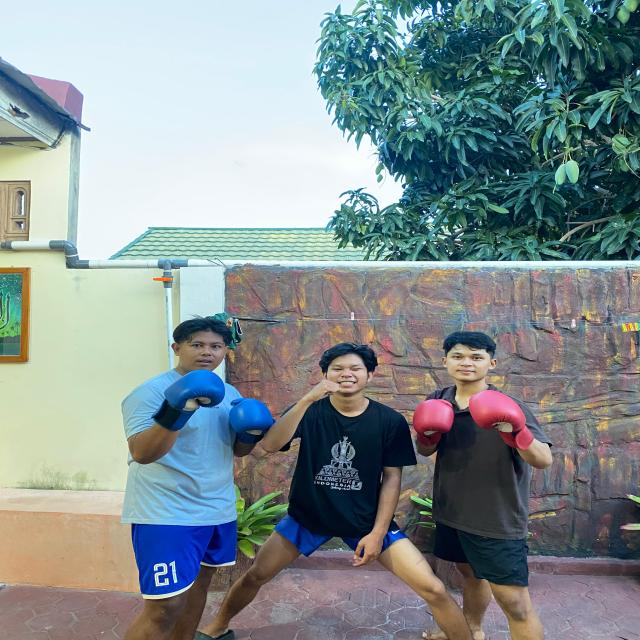nohelmet: (173, 312, 234, 386), (438, 327, 502, 392), (315, 335, 384, 394)
